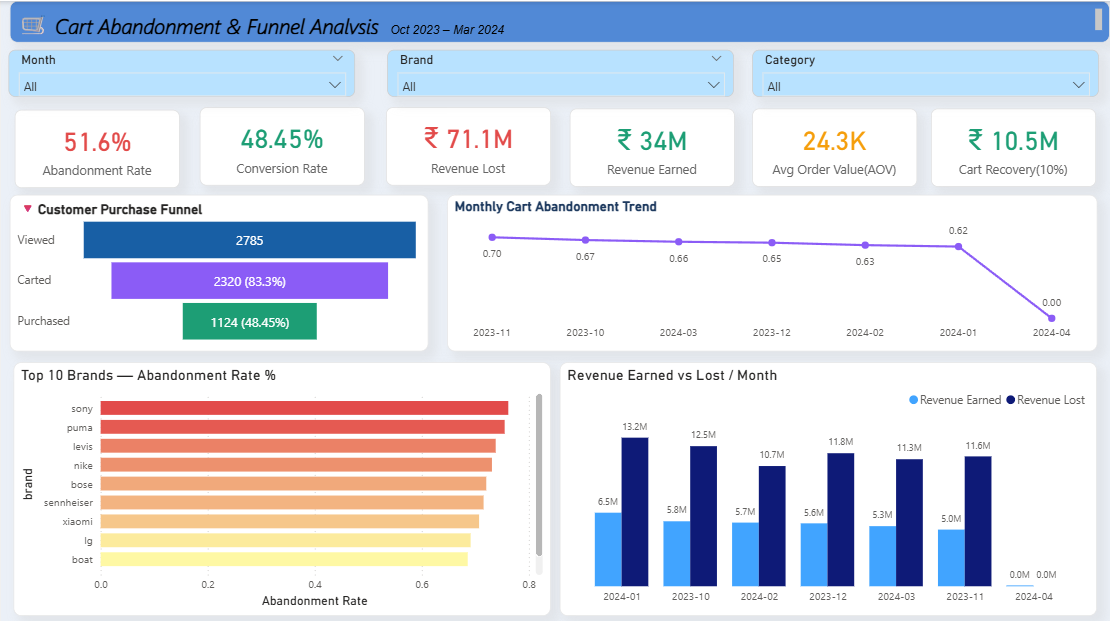

The page's visual inventory and layout, read from the dashboard file:
{"tool":"powerbi","page":{"name":"DS","canvas":[1280,720],"ordinal":1},"visuals":[{"type":"textbox","box":[10.1,0,1269.6,47.6],"z":0},{"type":"card","fields":{"Values":["ecom_event.Abandonment Rate"]},"box":[15.2,124.9,190,90],"z":1000},{"type":"card","fields":{"Values":["ecom_event.Conversion Rate"]},"box":[229.5,122,190,90],"z":2000},{"type":"card","fields":{"Values":["ecom_event.Revenue Lost"]},"box":[443.8,122,190,90],"z":3000},{"type":"card","fields":{"Values":["ecom_event.Revenue Earned"]},"box":[656.6,123.4,190,90],"z":4000},{"type":"card","fields":{"Values":["ecom_event.Avg Order Value(AOV)"]},"box":[866.6,123.4,190,90],"z":5000},{"type":"card","fields":{"Values":["ecom_event.Cart Recovery(10%)"]},"box":[1073.8,123.4,190,90],"z":6000},{"type":"slicer","fields":{"Values":["ecom_event.event_month"]},"box":[8.6,55.7,400,54.3],"z":7000},{"type":"slicer","fields":{"Values":["ecom_event.brand"]},"box":[445.7,55.7,400,54.3],"z":8000},{"type":"slicer","fields":{"Values":["ecom_event.category_code"]},"box":[867.1,55.7,400,54.3],"z":9000},{"type":"funnel","title":"🔻Customer Purchase Funnel","fields":{"Category":["FunnelStages.Stage"],"Y":["Sum(FunnelStages.Users)"]},"box":[10.7,224.3,482.9,181],"z":10000},{"type":"lineChart","title":"Monthly Cart Abandonment Trend","fields":{"Category":["ecom_event.event_month"],"Y":["ecom_event.Abandonment Rate"]},"box":[515,224.3,750,181],"z":11000},{"type":"barChart","title":"Top 10 Brands — Abandonment Rate %","fields":{"Category":["ecom_event.brand"],"Y":["ecom_event.Abandonment Rate"]},"box":[15,417.7,620,292.5],"z":12000},{"type":"clusteredColumnChart","title":"Revenue Earned vs Lost / Month","fields":{"Category":["ecom_event.event_month"],"Y":["ecom_event.Revenue Earned","ecom_event.Revenue Lost"]},"box":[645,417.7,620,292.5],"z":13000}]}

Visuals, with their boxes in screenshot pixels (x1, y1, x2, y2), scaled from the page's 1280x720 canvas onto the 1110x621 screenshot:
textbox: x1=9, y1=0, x2=1109, y2=41
card - ecom_event.Abandonment Rate: x1=13, y1=108, x2=178, y2=185
card - ecom_event.Conversion Rate: x1=199, y1=105, x2=364, y2=183
card - ecom_event.Revenue Lost: x1=385, y1=105, x2=550, y2=183
card - ecom_event.Revenue Earned: x1=569, y1=106, x2=734, y2=184
card - ecom_event.Avg Order Value(AOV): x1=752, y1=106, x2=916, y2=184
card - ecom_event.Cart Recovery(10%): x1=931, y1=106, x2=1096, y2=184
slicer - ecom_event.event_month: x1=7, y1=48, x2=354, y2=95
slicer - ecom_event.brand: x1=387, y1=48, x2=733, y2=95
slicer - ecom_event.category_code: x1=752, y1=48, x2=1099, y2=95
"🔻Customer Purchase Funnel" funnel: x1=9, y1=193, x2=428, y2=350
"Monthly Cart Abandonment Trend" lineChart: x1=447, y1=193, x2=1097, y2=350
"Top 10 Brands — Abandonment Rate %" barChart: x1=13, y1=360, x2=551, y2=613
"Revenue Earned vs Lost / Month" clusteredColumnChart: x1=559, y1=360, x2=1097, y2=613
